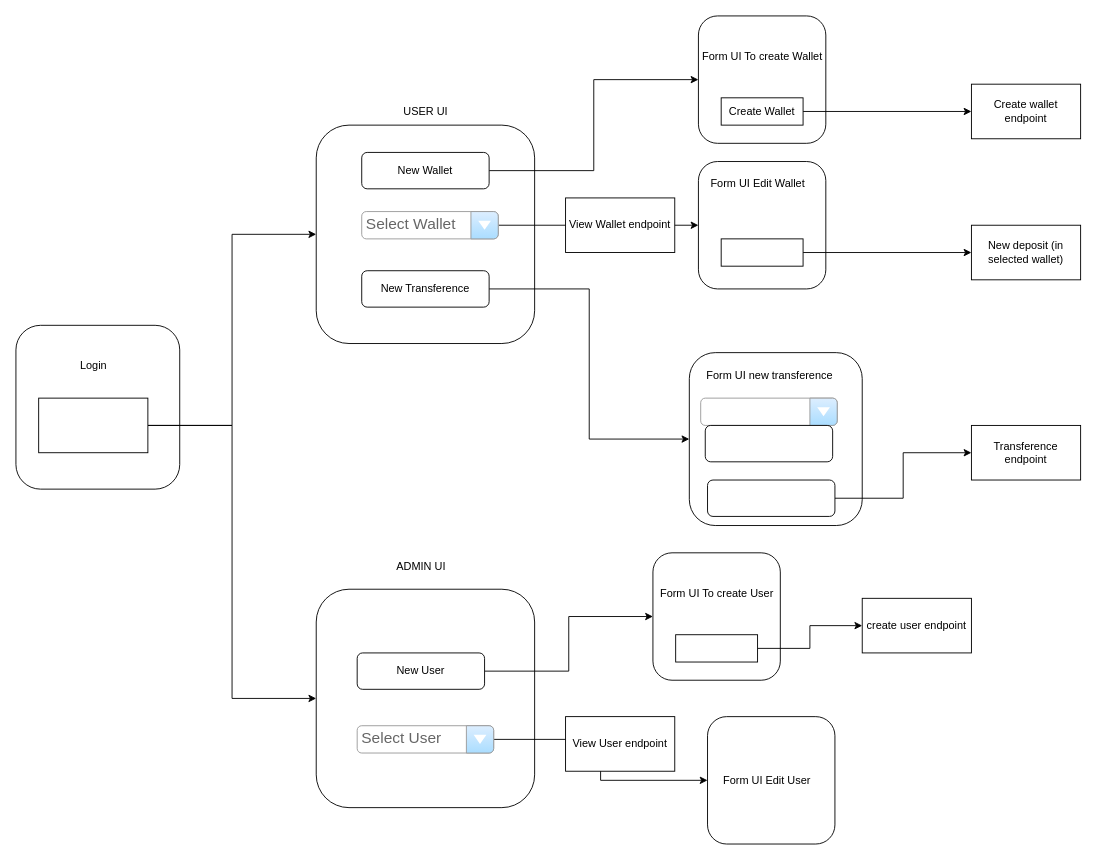
Image size: 1097x860. Some labels were removed from this diagram. The centre of each missing label's shape, as x and y in pixels:
"Create transference" goes at (x=771, y=497).
"Create User" goes at (x=716, y=648).
"Deposit" goes at (x=761, y=252).
"Login endpoint" goes at (x=93, y=425).
"Wallet Destination (Combo or Input)" goes at (x=768, y=443).
"Wallet origin" goes at (x=768, y=411).
